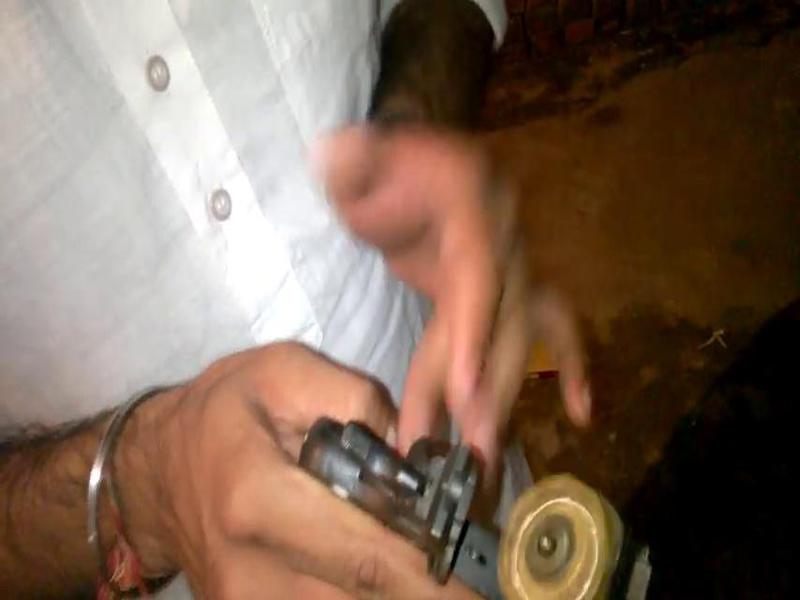Revolver: (286, 404, 672, 600)
